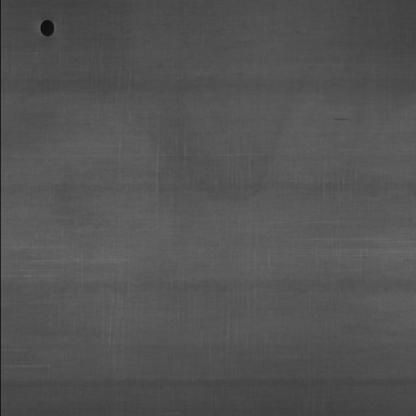punching_hole: (34, 17, 57, 40)
